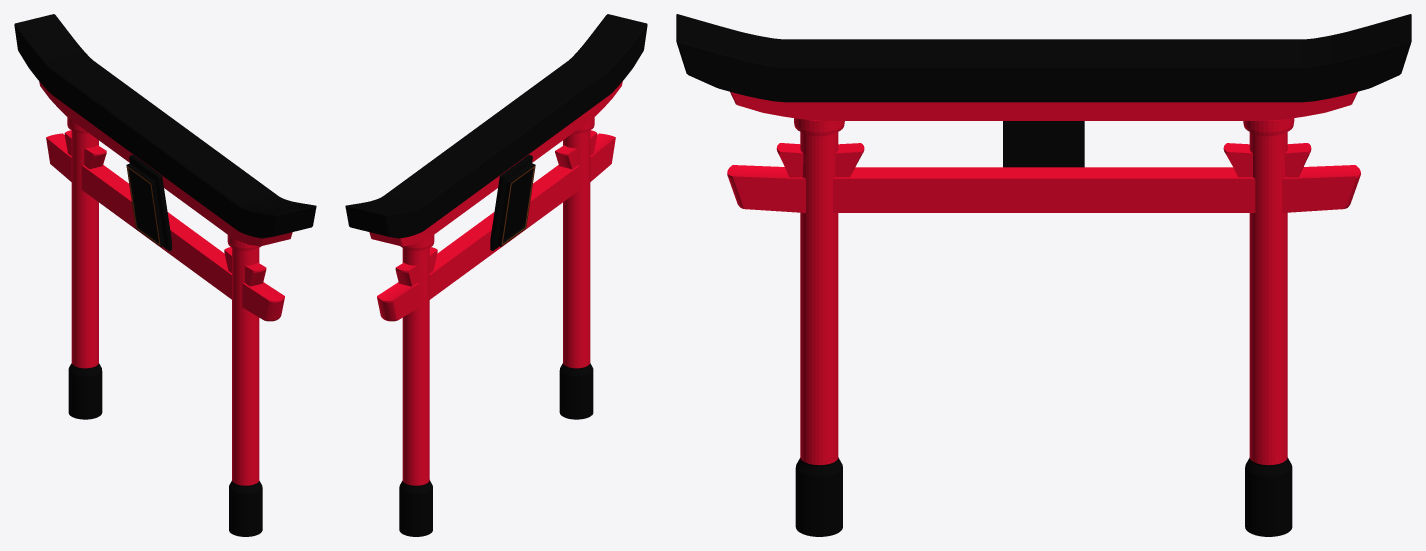
Rendered from Torii.fbx.
3 renders of one model, left to right at view 1: azimuth 30°, elevation 25°; view 2: azimuth 150°, elevation 25°; view 3: azimuth 270°, elevation 25°, orthographic. The views are drawn at different scales.
Parts seen in each view (by area): view 1: Torii; view 2: Torii; view 3: Torii.
Part boxes in pixels (x1,y1,x2,y2): Torii: [14, 14, 316, 536]; Torii: [345, 14, 647, 536]; Torii: [676, 14, 1411, 536].
Bounding box in the file's own units: 2604 × 1952 × 270.
